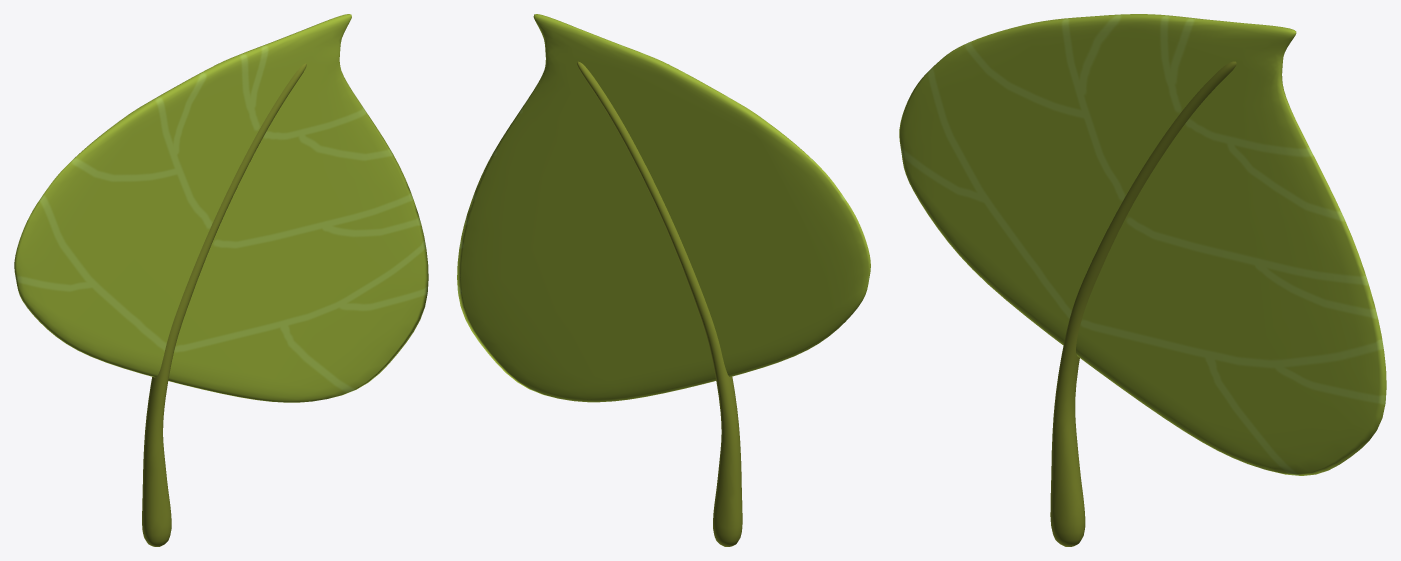
The model's file is leaf_LOD1.fbx.
The picture shows the model from 3 angles, left to right: view 1: azimuth 30°, elevation 25°; view 2: azimuth 150°, elevation 25°; view 3: azimuth 330°, elevation 25°; orthographic projection. The views are drawn at different scales.
Visible parts, largest first — view 1: cartoon leaf; view 2: cartoon leaf; view 3: cartoon leaf.
Boxes of the visible parts, x1,y1,x2,y2 form: cartoon leaf: (14,14,428,546); cartoon leaf: (457,14,870,546); cartoon leaf: (899,14,1386,546).
Bounding box in the file's own units: 301 × 337 × 16.02.
